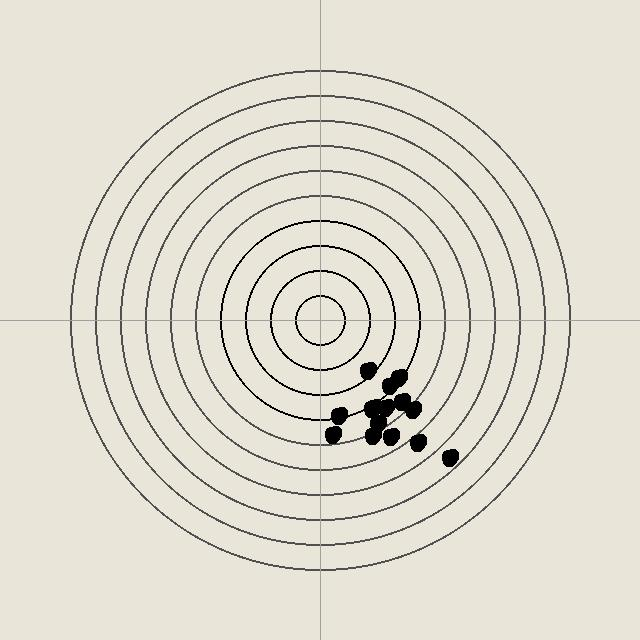good_group: (407, 432, 427, 452), (379, 375, 399, 395), (357, 360, 377, 380), (361, 398, 381, 418), (380, 426, 400, 446), (367, 413, 387, 433), (391, 391, 411, 411), (388, 367, 408, 387), (322, 424, 342, 444), (439, 447, 459, 467), (362, 425, 382, 445), (402, 399, 422, 419), (328, 405, 348, 425), (363, 397, 383, 417), (375, 397, 395, 417)
